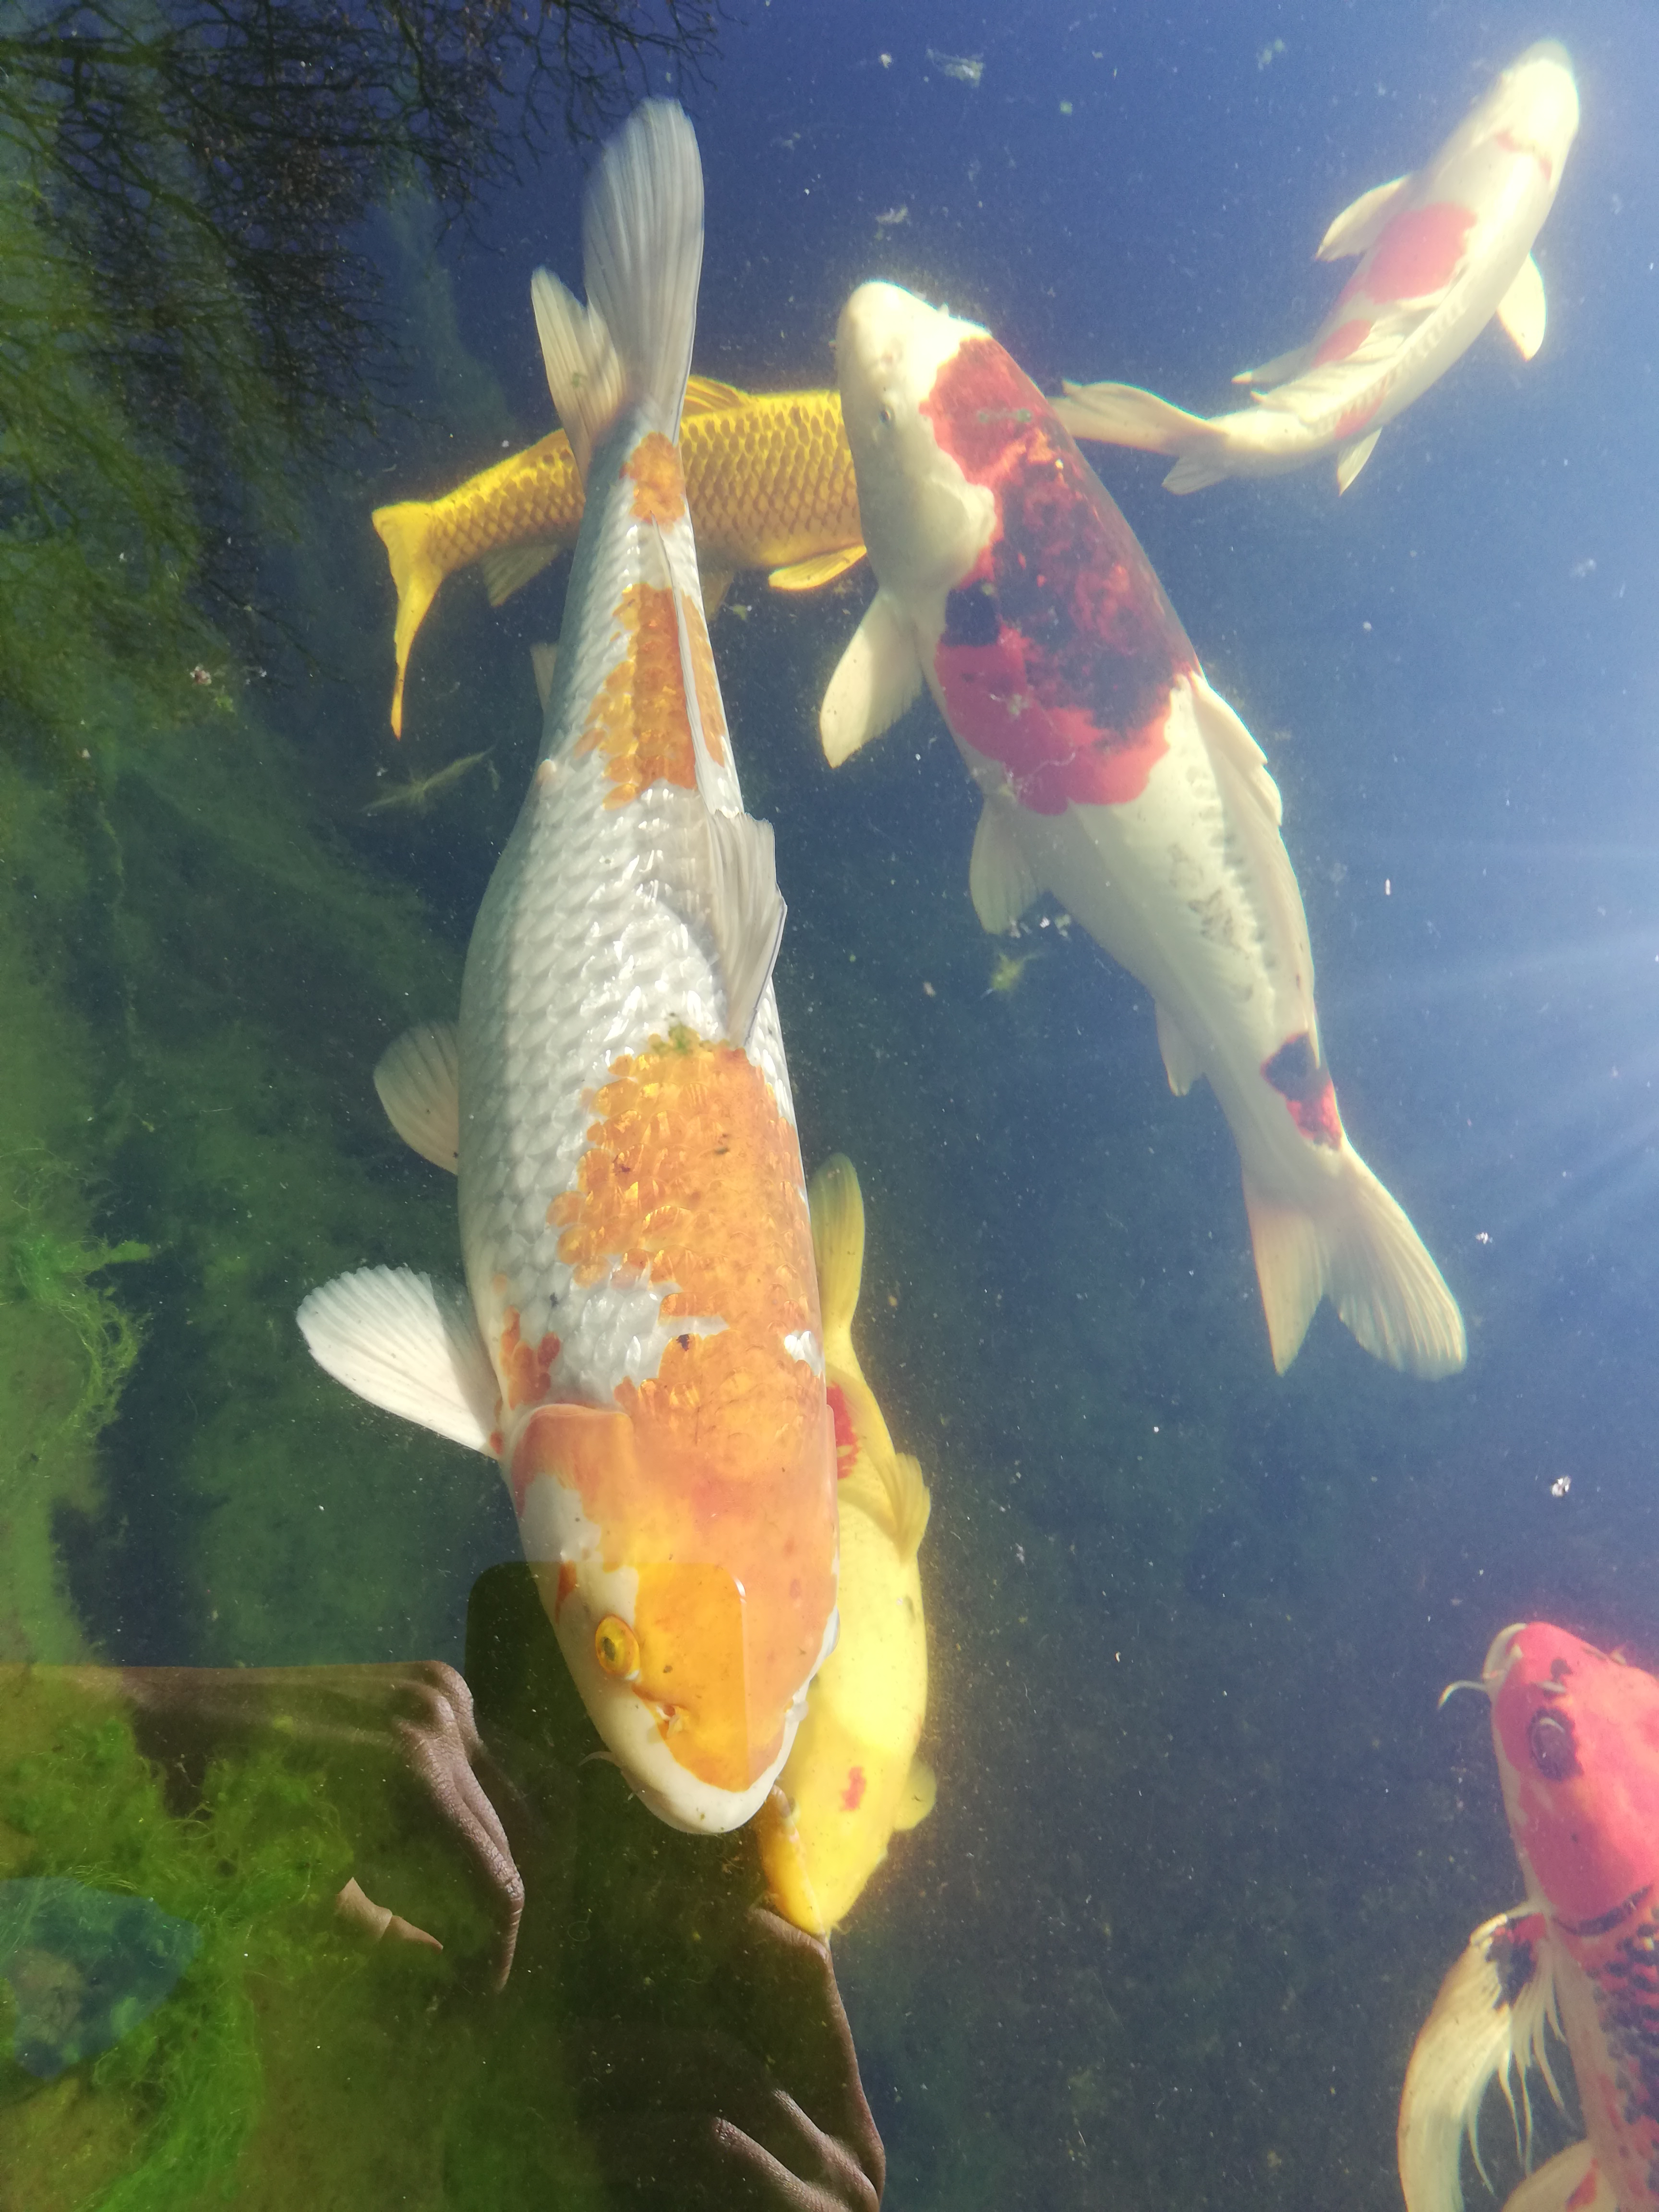Sparkle: (293, 71, 828, 1855)
Wallie: (775, 206, 1490, 1404)
